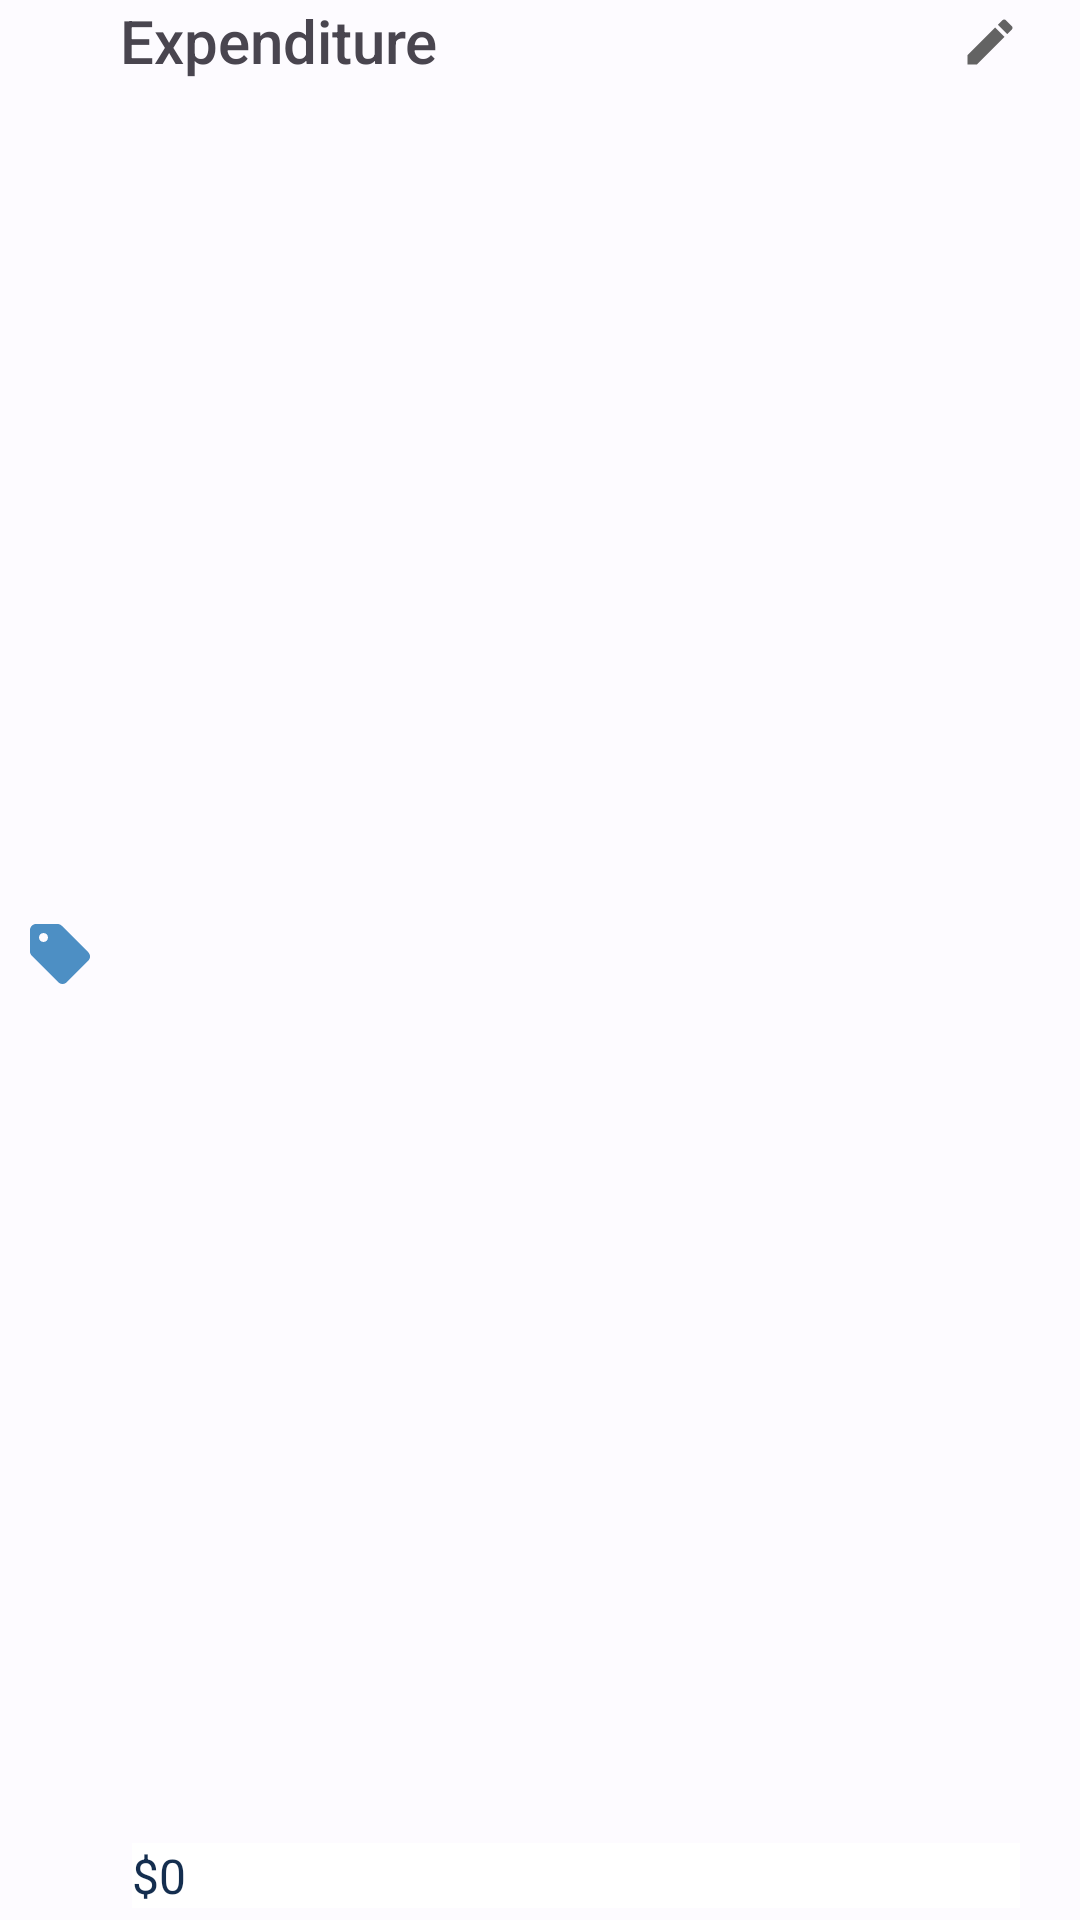

Screen size 1080×1920. Icon name, then its box in pixels as (x1, y1, x2, y2):
edit: (967, 19, 1013, 65)
